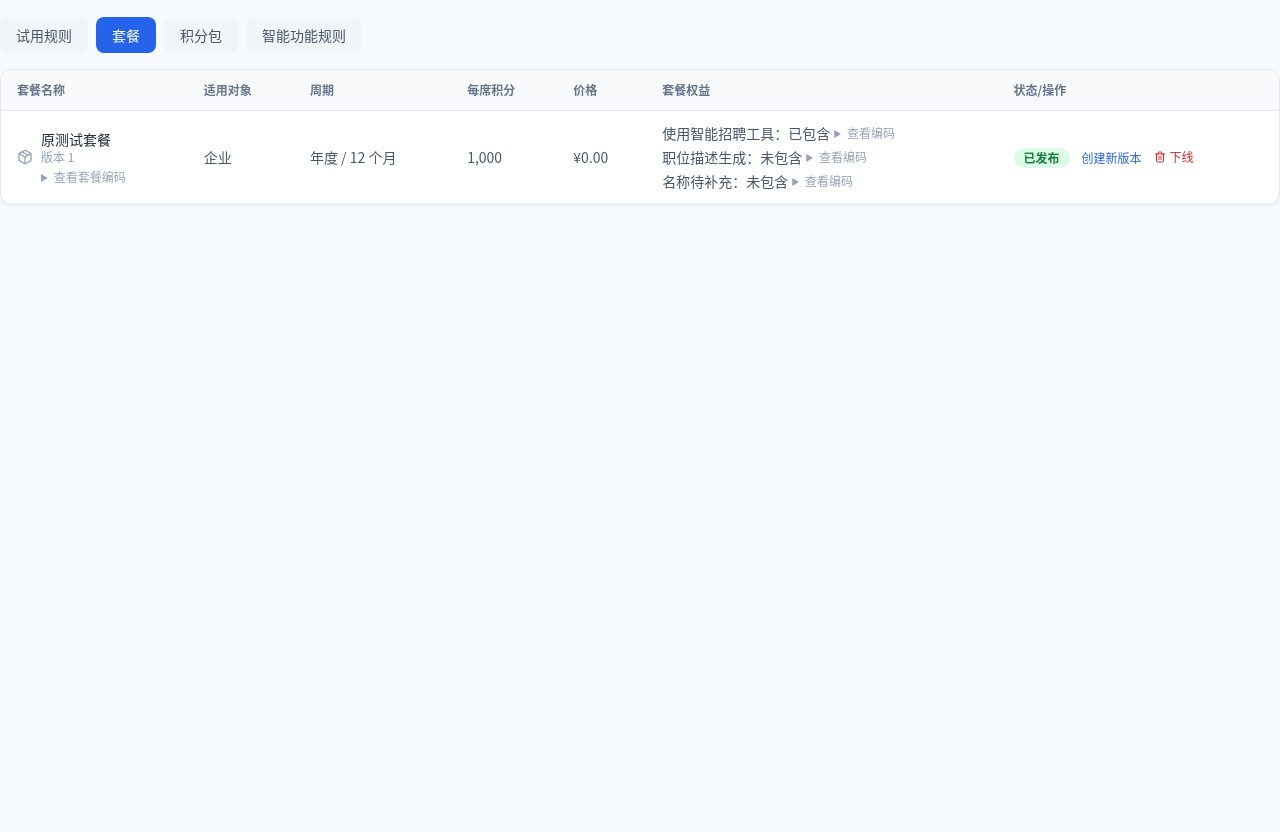
Test case: 套餐业务权益配置 › 业务权益源读取失败时阻止发布，不将缺少权益误当成空配置
Step 1. Click the button "创建新版本" → (1112, 158), box [1082,150,1142,166]
(page scrolled)
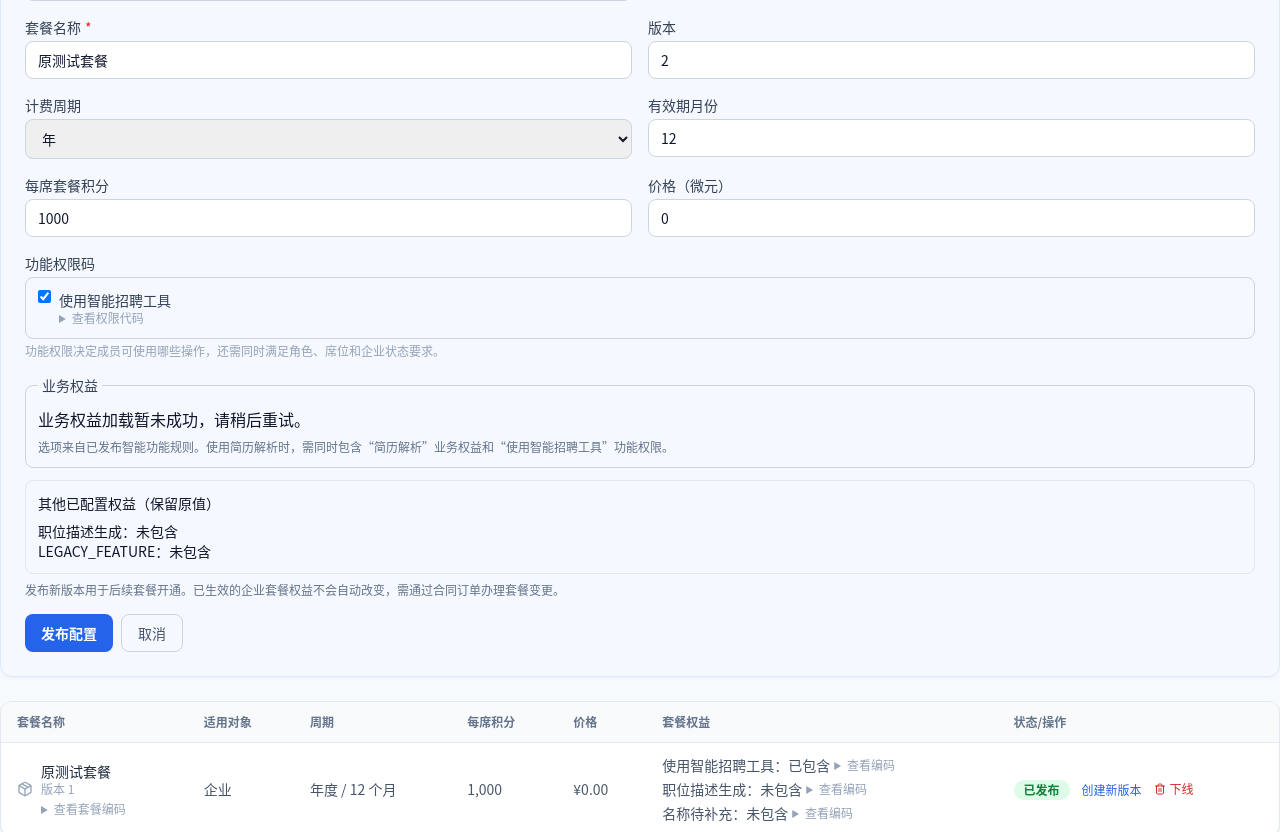
Step 2. Click the button "发布配置" → (69, 633), box [25,614,113,652]
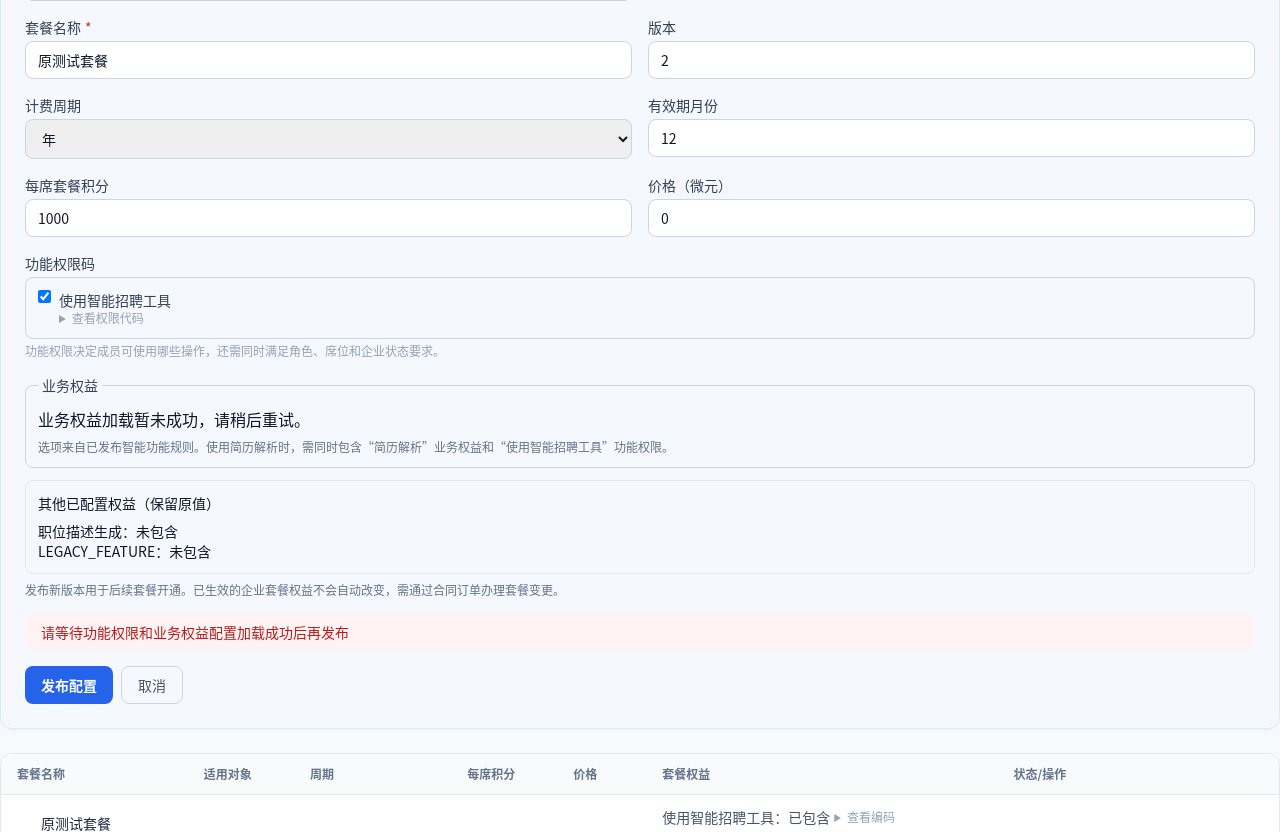
Check: the text "请等待功能权限和业务权益配置加载成功后再发布" is shown, box [25,614,1255,650]
